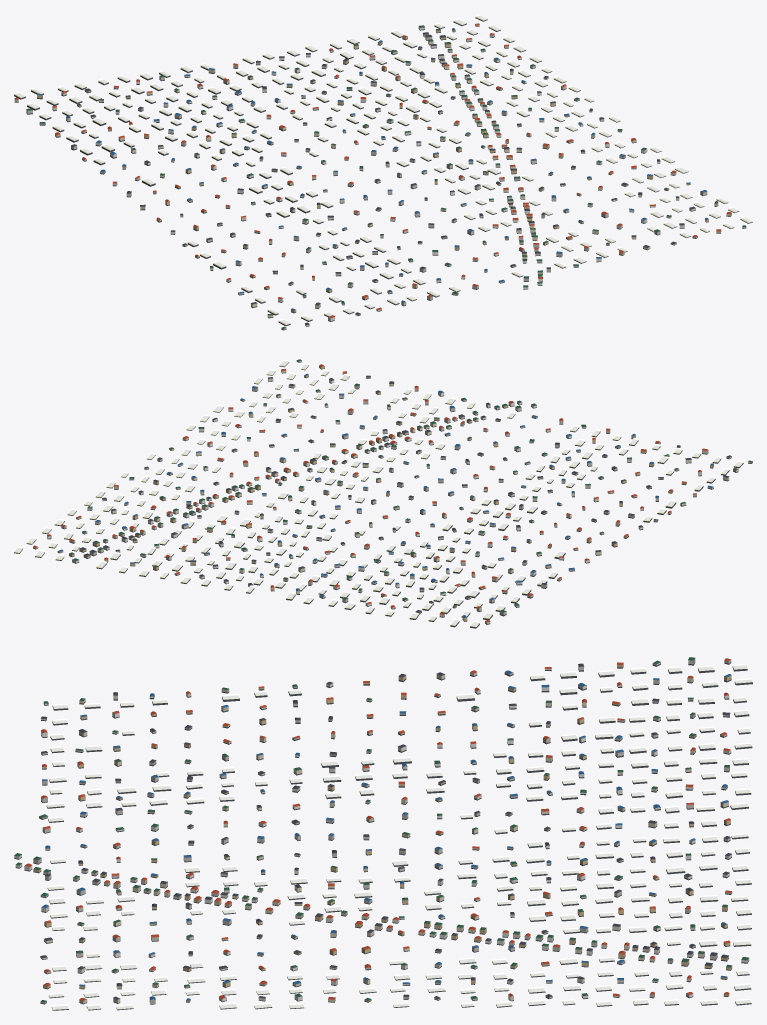
File: buildings_T_E02_N05.glb
The picture shows the model from 3 angles, top to bottom: view 1: azimuth 30°, elevation 25°; view 2: azimuth 150°, elevation 25°; view 3: azimuth 270°, elevation 25°; orthographic projection. The views are drawn at different scales.
Parts seen in each view (by area): view 1: T_E02_N05_slope_seating_foundations, T_E02_N05_roofs_agri_greenhouse_arch, T_E02_N05_walls_wall_pastel_sand_gray, T_E02_N05_walls_wall_french_ochre_villa, T_E02_N05_walls_wall_modern_warm_white, T_E02_N05_walls_wall_dalat_cream_stucco, T_E02_N05_roofs_roof_terracotta_gable, T_E02_N05_roofs_roof_slate_French_villa_hip, T_E02_N05_roofs_roof_pine_green_hip, T_E02_N05_roofs_roof_highland_blue_gable; view 2: T_E02_N05_slope_seating_foundations, T_E02_N05_roofs_agri_greenhouse_arch, T_E02_N05_walls_wall_pastel_sand_gray, T_E02_N05_walls_wall_french_ochre_villa, T_E02_N05_walls_wall_modern_warm_white, T_E02_N05_walls_wall_dalat_cream_stucco, T_E02_N05_roofs_roof_terracotta_gable, T_E02_N05_roofs_roof_slate_French_villa_hip, T_E02_N05_roofs_roof_pine_green_hip, T_E02_N05_roofs_roof_highland_blue_gable; view 3: T_E02_N05_slope_seating_foundations, T_E02_N05_roofs_agri_greenhouse_arch, T_E02_N05_walls_wall_pastel_sand_gray, T_E02_N05_walls_wall_french_ochre_villa, T_E02_N05_walls_wall_modern_warm_white, T_E02_N05_walls_wall_dalat_cream_stucco, T_E02_N05_roofs_roof_terracotta_gable, T_E02_N05_roofs_roof_slate_French_villa_hip, T_E02_N05_roofs_roof_pine_green_hip, T_E02_N05_roofs_roof_highland_blue_gable.
Part boxes in pixels (x1=…): T_E02_N05_slope_seating_foundations: x1=14, y1=16, x2=752, y2=330; T_E02_N05_roofs_agri_greenhouse_arch: x1=14, y1=14, x2=752, y2=324; T_E02_N05_walls_wall_pastel_sand_gray: x1=14, y1=36, x2=746, y2=305; T_E02_N05_walls_wall_french_ochre_villa: x1=37, y1=24, x2=721, y2=312; T_E02_N05_walls_wall_modern_warm_white: x1=40, y1=27, x2=684, y2=325; T_E02_N05_walls_wall_dalat_cream_stucco: x1=52, y1=39, x2=731, y2=329; T_E02_N05_roofs_roof_terracotta_gable: x1=14, y1=23, x2=731, y2=318; T_E02_N05_roofs_roof_slate_French_villa_hip: x1=71, y1=32, x2=718, y2=325; T_E02_N05_roofs_roof_pine_green_hip: x1=26, y1=25, x2=746, y2=328; T_E02_N05_roofs_roof_highland_blue_gable: x1=37, y1=28, x2=708, y2=310; T_E02_N05_slope_seating_foundations: x1=14, y1=361, x2=752, y2=628; T_E02_N05_roofs_agri_greenhouse_arch: x1=14, y1=359, x2=743, y2=627; T_E02_N05_walls_wall_pastel_sand_gray: x1=61, y1=360, x2=658, y2=623; T_E02_N05_walls_wall_french_ochre_villa: x1=33, y1=366, x2=713, y2=620; T_E02_N05_walls_wall_modern_warm_white: x1=47, y1=377, x2=731, y2=616; T_E02_N05_walls_wall_dalat_cream_stucco: x1=69, y1=369, x2=752, y2=611; T_E02_N05_roofs_roof_terracotta_gable: x1=33, y1=364, x2=707, y2=622; T_E02_N05_roofs_roof_slate_French_villa_hip: x1=79, y1=375, x2=731, y2=612; T_E02_N05_roofs_roof_pine_green_hip: x1=69, y1=359, x2=752, y2=612; T_E02_N05_roofs_roof_highland_blue_gable: x1=58, y1=373, x2=713, y2=617; T_E02_N05_slope_seating_foundations: x1=14, y1=662, x2=752, y2=1010; T_E02_N05_roofs_agri_greenhouse_arch: x1=46, y1=664, x2=752, y2=1009; T_E02_N05_walls_wall_pastel_sand_gray: x1=33, y1=658, x2=732, y2=1003; T_E02_N05_walls_wall_french_ochre_villa: x1=33, y1=663, x2=732, y2=1002; T_E02_N05_walls_wall_modern_warm_white: x1=14, y1=662, x2=749, y2=1001; T_E02_N05_walls_wall_dalat_cream_stucco: x1=42, y1=674, x2=728, y2=1003; T_E02_N05_roofs_roof_terracotta_gable: x1=25, y1=658, x2=731, y2=1001; T_E02_N05_roofs_roof_slate_French_villa_hip: x1=40, y1=663, x2=731, y2=999; T_E02_N05_roofs_roof_pine_green_hip: x1=14, y1=657, x2=748, y2=1002; T_E02_N05_roofs_roof_highland_blue_gable: x1=41, y1=670, x2=731, y2=1000.
Size of the model in its own units: 1737 by 157 by 1816.
